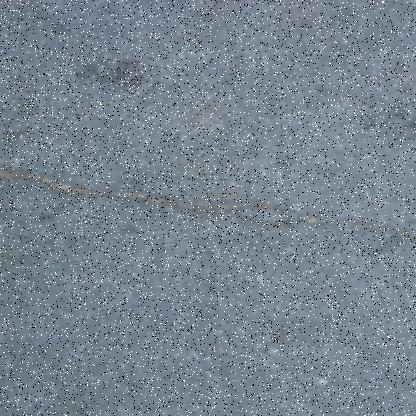Cracks: (0, 163, 416, 239)
